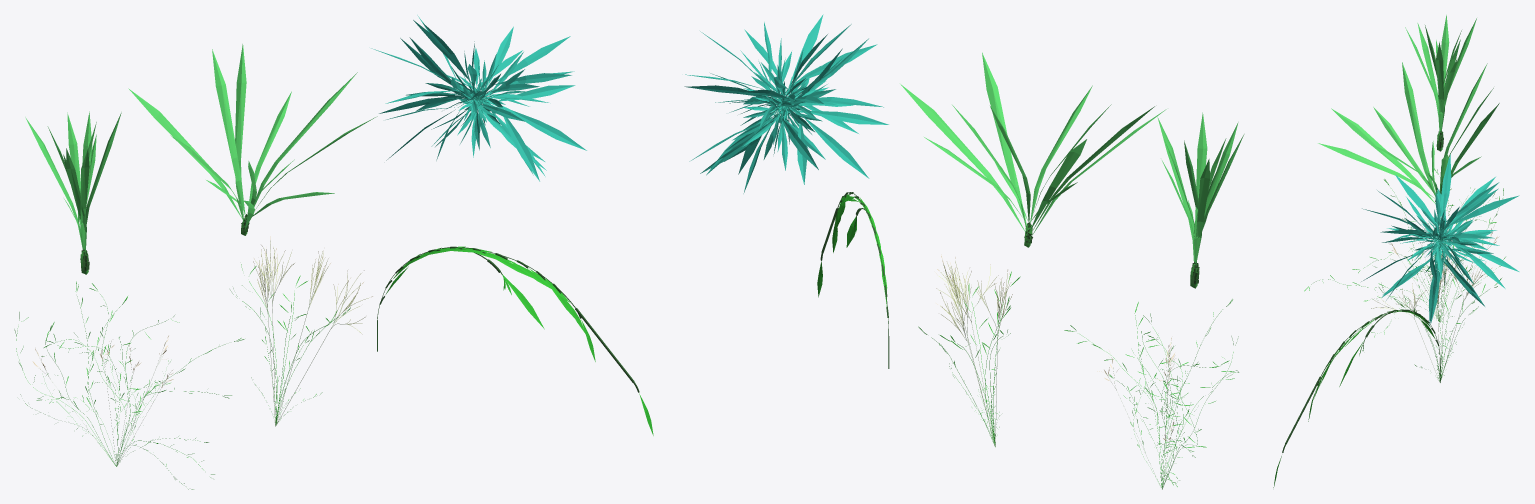
File: Grassy plants_saved.obj
3 renders of one model, left to right at view 1: azimuth 30°, elevation 25°; view 2: azimuth 150°, elevation 25°; view 3: azimuth 270°, elevation 25°, orthographic. The views are drawn at different scales.
Visible parts, largest first — view 1: bluefes, Differen, Grassyp, maideng, bending, curvyma; view 2: bluefes, Differen, Grassyp, maideng, curvyma, bending; view 3: bluefes, Differen, Grassyp, maideng, bending, curvyma.
Boxes of the visible parts, <box> form: bluefes: <box>371,15,586,181</box>; Differen: <box>128,44,377,235</box>; Grassyp: <box>25,111,121,274</box>; maideng: <box>230,236,372,426</box>; bending: <box>377,246,653,435</box>; curvyma: <box>14,281,244,489</box>; bluefes: <box>684,14,888,193</box>; Differen: <box>900,52,1166,247</box>; Grassyp: <box>1157,112,1244,288</box>; maideng: <box>918,254,1020,447</box>; curvyma: <box>1064,299,1238,489</box>; bending: <box>817,192,889,368</box>; bluefes: <box>1361,154,1519,326</box>; Differen: <box>1318,62,1499,203</box>; Grassyp: <box>1405,15,1476,151</box>; maideng: <box>1371,252,1501,382</box>; bending: <box>1273,309,1440,487</box>; curvyma: <box>1304,168,1505,337</box>.
Size of the model in its own units: 344 by 226 by 174.
